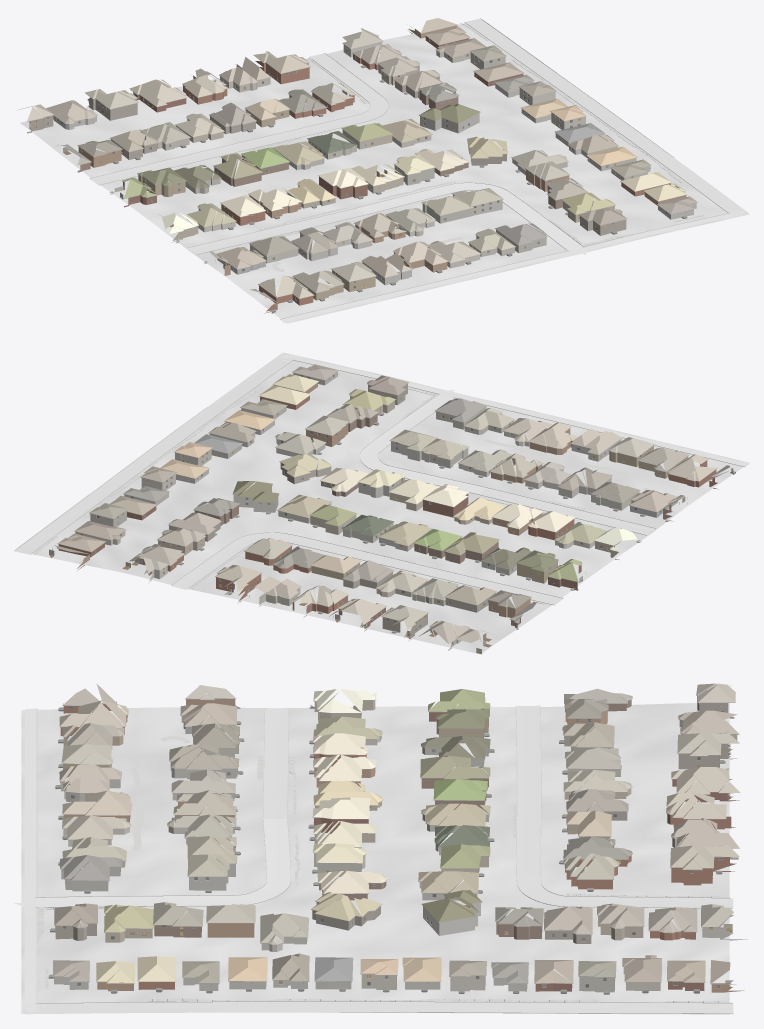
3 renders of one model, top to bottom at view 1: azimuth 30°, elevation 25°; view 2: azimuth 150°, elevation 25°; view 3: azimuth 270°, elevation 25°, orthographic. The views are drawn at different scales.
Visible parts, largest first — view 1: ground, roof, concrete, wall, wall_stucco, detail, wall_stone, curb, walk, glass; view 2: ground, roof, concrete, wall, wall_stucco, detail, wall_stone, curb, walk, glass, room; view 3: ground, roof, concrete, wall, wall_stucco, detail, wall_stone, curb, walk, glass.
Part boxes in pixels (x1,y1,x2,y2): ground: (20, 19, 749, 323); roof: (17, 18, 697, 302); concrete: (89, 18, 748, 322); wall: (27, 25, 686, 313); wall_stucco: (141, 36, 604, 274); detail: (27, 25, 697, 313); wall_stone: (53, 81, 696, 285); curb: (89, 18, 729, 319); walk: (251, 23, 703, 271); glass: (47, 47, 667, 300); ground: (14, 352, 749, 654); roof: (54, 364, 729, 643); concrete: (15, 353, 749, 604); wall: (58, 383, 718, 641); wall_stucco: (75, 407, 677, 607); detail: (52, 371, 735, 645); wall_stone: (124, 372, 621, 650); curb: (14, 359, 744, 605); walk: (32, 373, 649, 589); glass: (97, 374, 704, 644); room: (49, 408, 685, 654); ground: (21, 703, 729, 1014); roof: (53, 683, 740, 983); concrete: (14, 705, 733, 1014); wall: (55, 696, 744, 992); wall_stucco: (61, 716, 747, 992); detail: (48, 695, 739, 994); wall_stone: (54, 720, 737, 991); curb: (35, 705, 732, 1014); walk: (37, 736, 729, 1002); glass: (63, 706, 730, 987).
Bounding box in the file's own units: 255 × 14.46 × 260.
